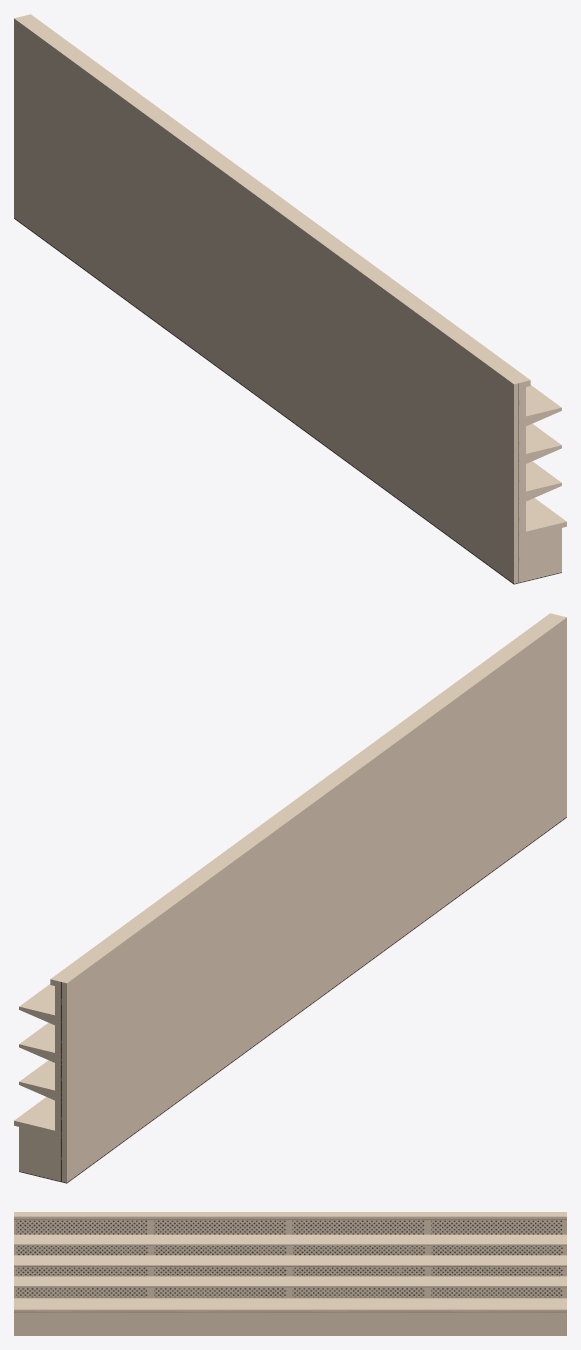
The model's file is S.4StoreShelf.fbx.
3 renders of one model, top to bottom at view 1: azimuth 30°, elevation 25°; view 2: azimuth 150°, elevation 25°; view 3: azimuth 270°, elevation 25°, orthographic. The views are drawn at different scales.
Visible parts, largest first — view 1: Plane.001; view 2: Plane.001; view 3: Plane.001.
Part boxes in pixels (left/top/right/bottom): Plane.001: left=14, top=14, right=566, bottom=584; Plane.001: left=14, top=613, right=566, bottom=1183; Plane.001: left=14, top=1212, right=566, bottom=1335.
Size of the model in its own units: 166 by 600 by 2713.
